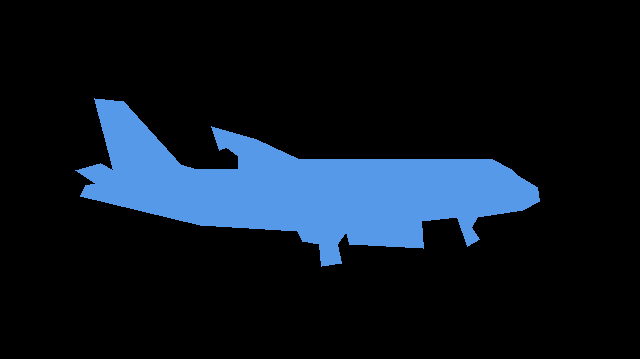Airplane: (75, 98, 540, 267)
